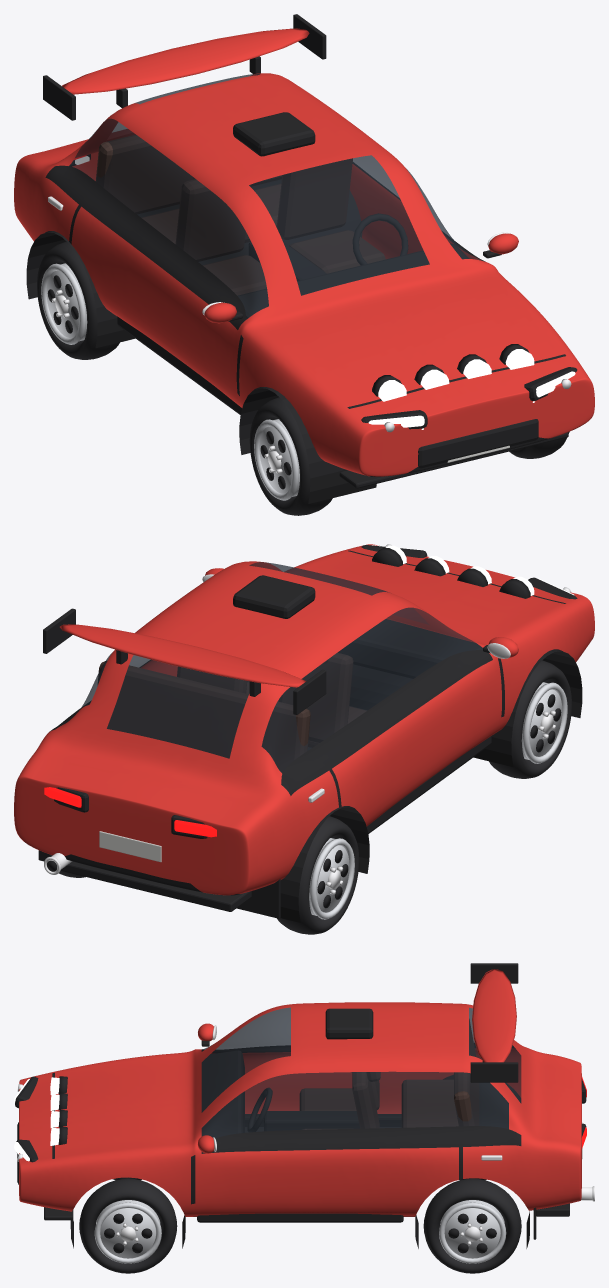
Rendered from ostwind.glb.
The picture shows the model from 3 angles, top to bottom: view 1: azimuth 30°, elevation 25°; view 2: azimuth 150°, elevation 25°; view 3: azimuth 270°, elevation 25°; orthographic projection. The views are drawn at different scales.
Parts seen in each view (by area): view 1: body, wheel_rr, wheel_fr; view 2: body, wheel_fr, wheel_rr; view 3: body, wheel_rl, wheel_fl.
Part boxes in pixels (box(x1,y1,x2,y2)): body: box(14, 14, 594, 503); wheel_rr: box(37, 241, 119, 359); wheel_fr: box(249, 397, 332, 515); body: box(14, 544, 594, 922); wheel_fr: box(489, 660, 571, 778); wheel_rr: box(277, 816, 359, 934); body: box(14, 963, 594, 1248); wheel_rl: box(423, 1178, 521, 1273); wheel_fl: box(79, 1178, 177, 1273).
Size of the model in its own units: 2.2 by 1.76 by 4.39.
